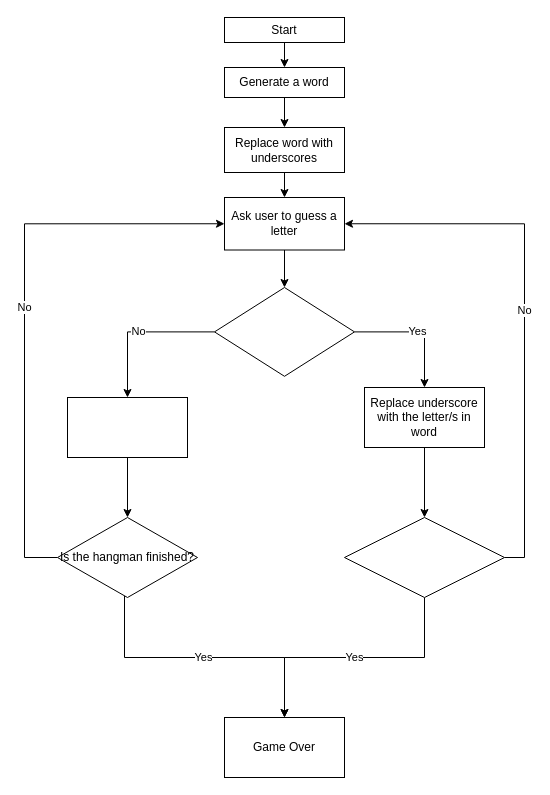
The diagram is 550 pixels wide and 795 high, and some of its shapes have lost their labels. The shapes that lost their labels are listed below. From the top down, each one's centre as x and y in pixels, then its label:
At (x=284, y=331): "Does the letter exist in the word?".
At (x=127, y=427): "Add an element in hangman".
At (x=424, y=557): "Is the word full?".
